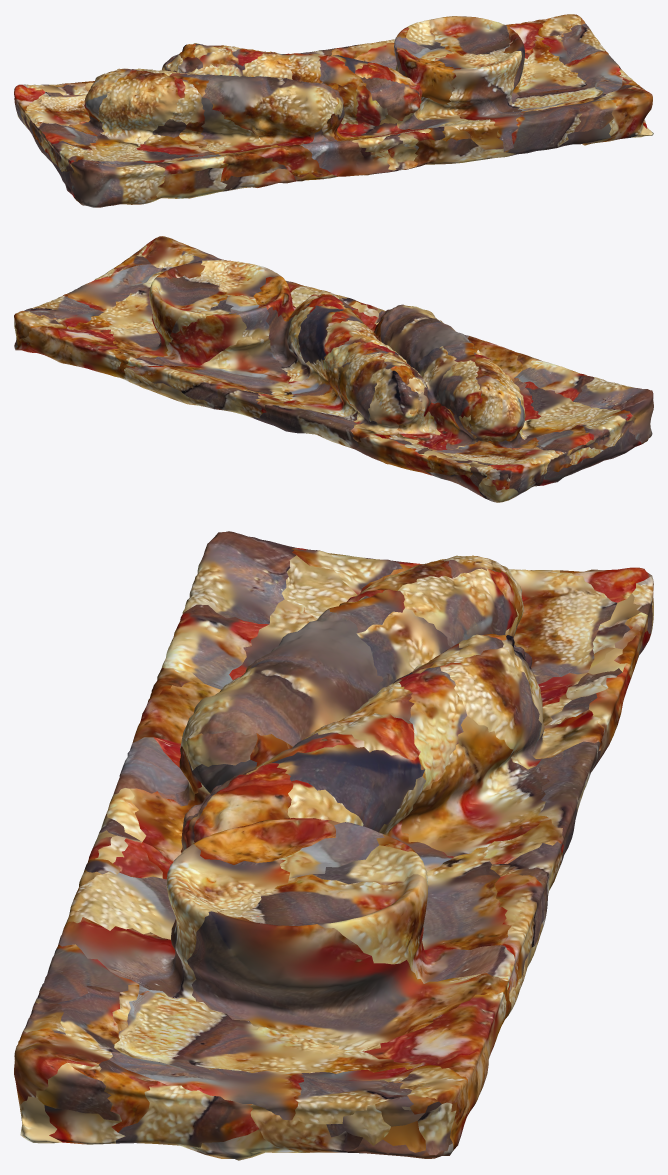
File: corn_dog.obj
3 renders of one model, top to bottom at view 1: azimuth 30°, elevation 25°; view 2: azimuth 150°, elevation 25°; view 3: azimuth 270°, elevation 25°, orthographic. The views are drawn at different scales.
Parts seen in each view (by area): view 1: Object; view 2: Object; view 3: Object.
Boxes of the visible parts, x1,y1,x2,y2 form: Object: [14, 14, 653, 207]; Object: [14, 236, 653, 502]; Object: [14, 531, 653, 1160].
Bounding box in the file's own units: 0.2988 × 0.0474 × 0.1521.
